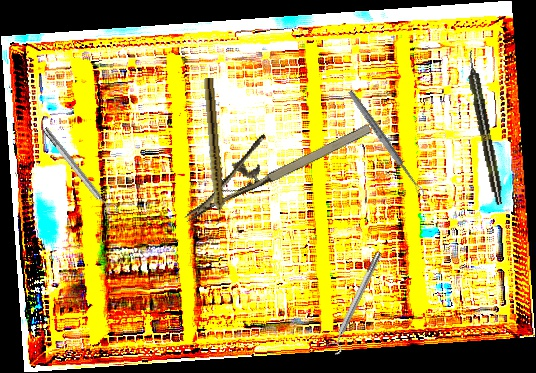Fixation Ring: (38, 122, 120, 221), (323, 249, 388, 357)
Handpiece: (463, 49, 506, 206), (200, 77, 227, 226)
Needle Holder: (166, 93, 375, 223)
Surgical Spoon: (346, 89, 426, 197)
